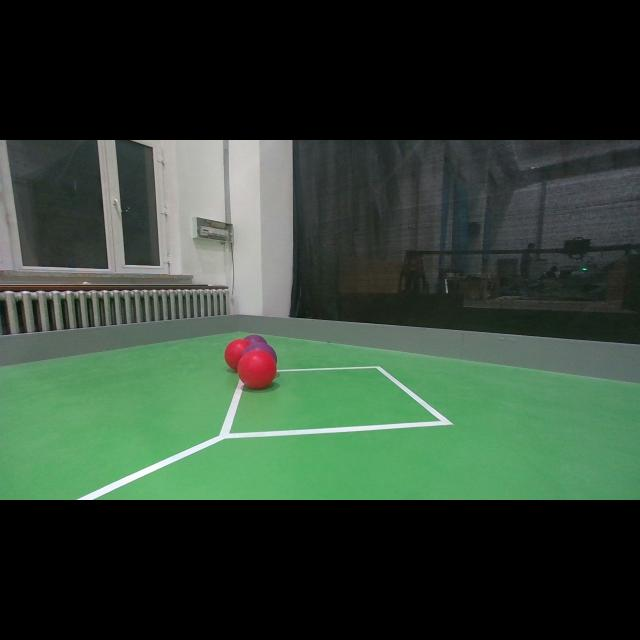R: (238, 349, 276, 388), (225, 338, 255, 368)
